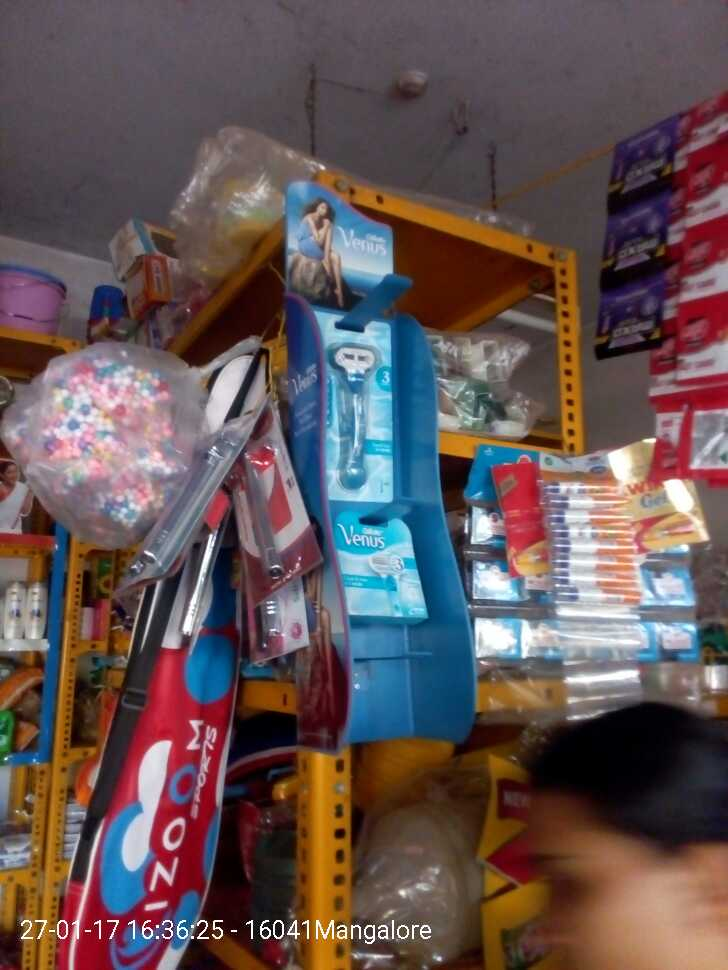venus: (304, 310, 402, 497), (320, 509, 430, 626)
